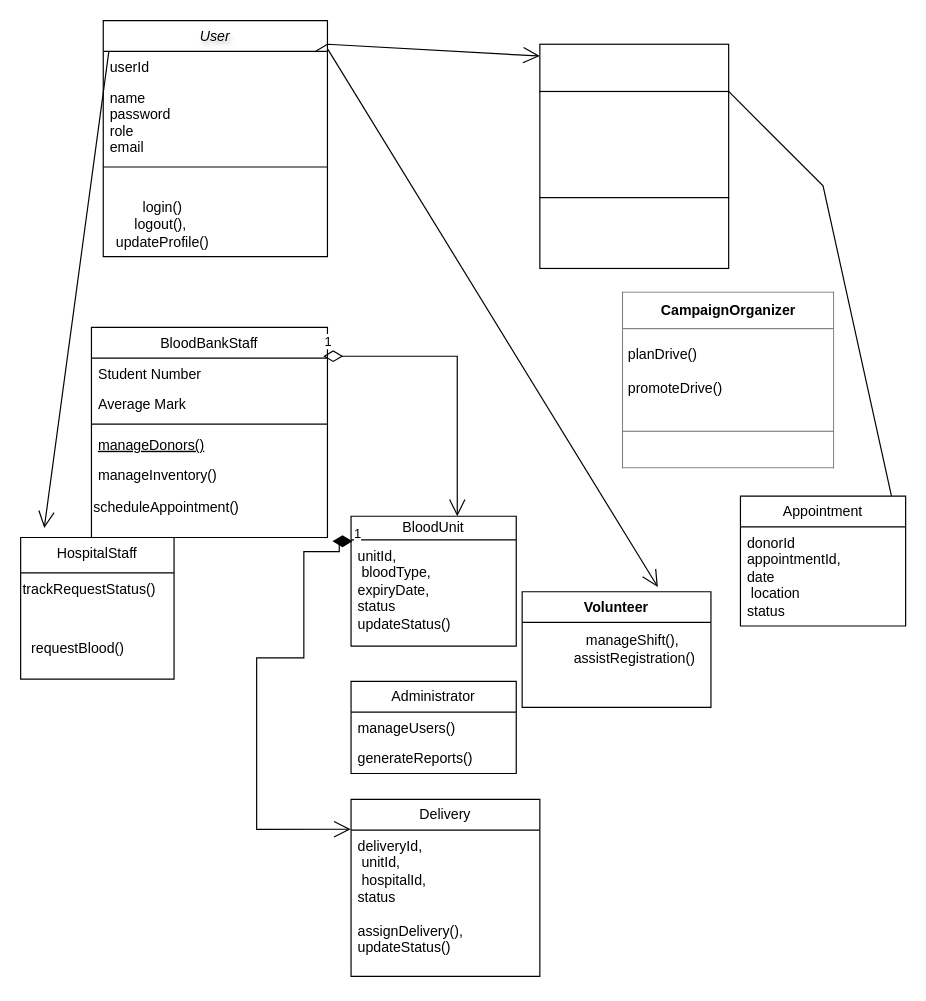
The diagram is 926 pixels wide and 1001 high, and some of its shapes have lost their labels. Here are the shapes that lost their labels. From the top down, the centre of each, then its label:
point (634, 67): Donor
point (634, 144): BloodType DonationHistory EligityStatus
point (634, 232): BookAppointment() ViewHistory() ReceiveAlerts()
